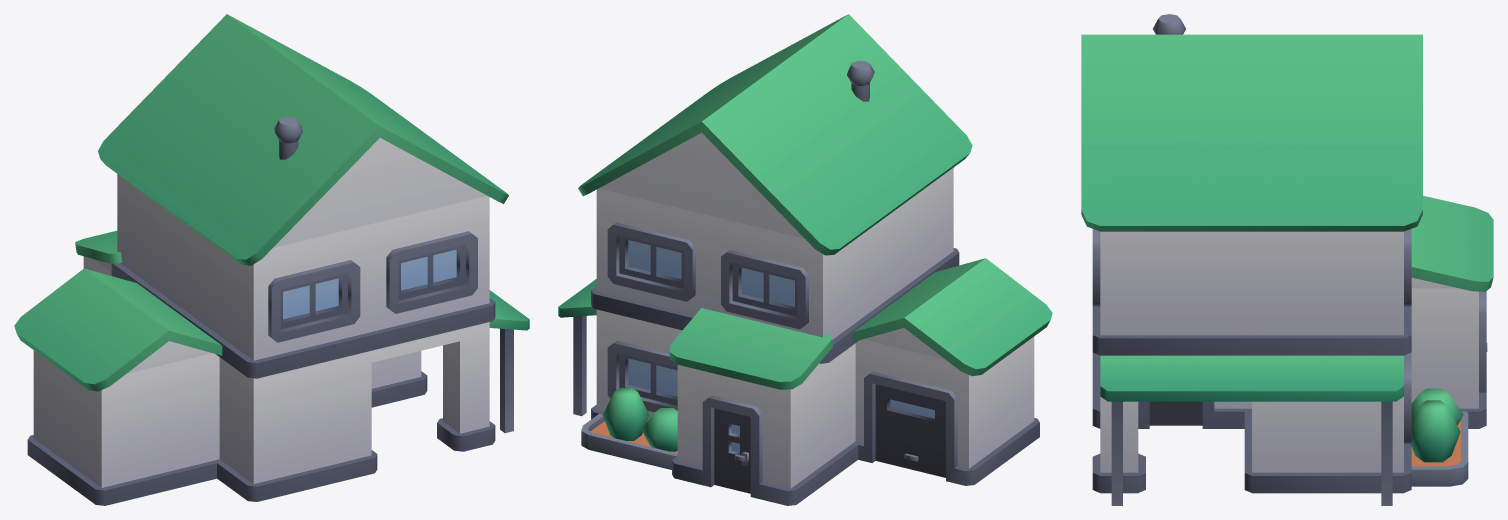
The model's file is building-type-s.draco.glb.
The picture shows the model from 3 angles, left to right: view 1: azimuth 30°, elevation 25°; view 2: azimuth 150°, elevation 25°; view 3: azimuth 270°, elevation 25°; orthographic projection. The views are drawn at different scales.
Visible parts, largest first — view 1: building-type-s; view 2: building-type-s; view 3: building-type-s.
Boxes of the visible parts, bbox=[...] form: building-type-s: bbox=[14, 14, 529, 505]; building-type-s: bbox=[558, 14, 1052, 505]; building-type-s: bbox=[1081, 14, 1493, 505].
Bounding box in the file's own units: 1.41 × 1.14 × 1.09.
1 material, 1 textured.
